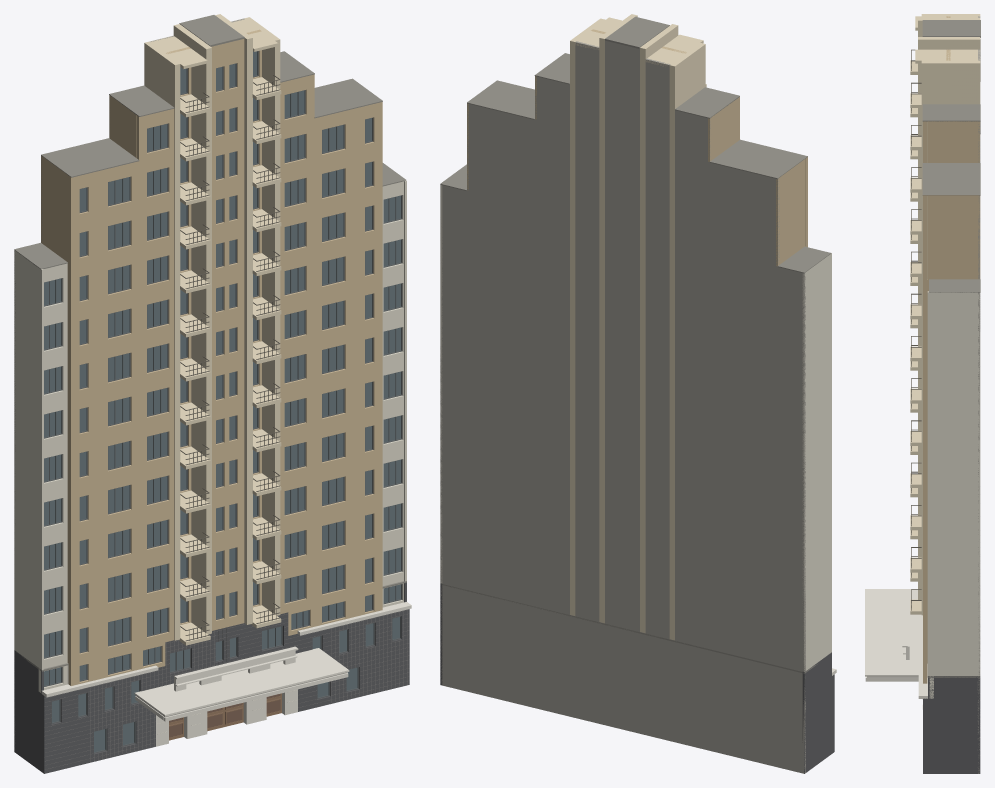
File: xuhui-picardie-apartments-south-front-lod.glb
3 renders of one model, left to right at view 1: azimuth 30°, elevation 25°; view 2: azimuth 150°, elevation 25°; view 3: azimuth 270°, elevation 25°, orthographic. The views are drawn at different scales.
Parts seen in each view (by area): view 1: 毕卡迪公寓南向阶梯塔楼与534号入口; view 2: 毕卡迪公寓南向阶梯塔楼与534号入口; view 3: 毕卡迪公寓南向阶梯塔楼与534号入口.
Part boxes in pixels (x1,y1,x2,y2): 毕卡迪公寓南向阶梯塔楼与534号入口: [14, 14, 411, 773]; 毕卡迪公寓南向阶梯塔楼与534号入口: [440, 14, 836, 773]; 毕卡迪公寓南向阶梯塔楼与534号入口: [865, 14, 980, 773].
Size of the model in its own units: 31 by 55.83 by 8.87.
